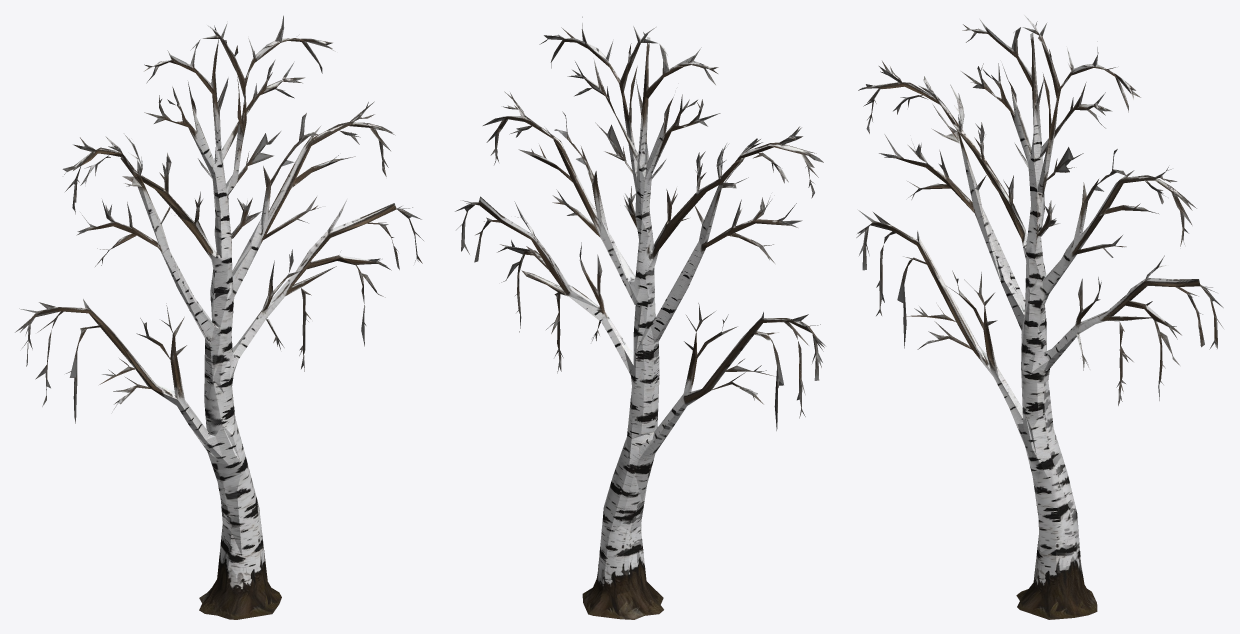
The model's file is tree_birch_winter.glb.
3 views of the same model, side by side, from view 1: azimuth 30°, elevation 25°; view 2: azimuth 150°, elevation 25°; view 3: azimuth 330°, elevation 25° (orthographic).
Visible parts, largest first — view 1: Mesh_0; view 2: Mesh_0; view 3: Mesh_0.
Boxes of the visible parts, <box> form: Mesh_0: <box>15,15,423,619</box>; Mesh_0: <box>455,16,825,619</box>; Mesh_0: <box>856,15,1223,619</box>.
Bounding box in the file's own units: 1.33 × 1.9 × 0.2403.
1 material, 1 textured.
